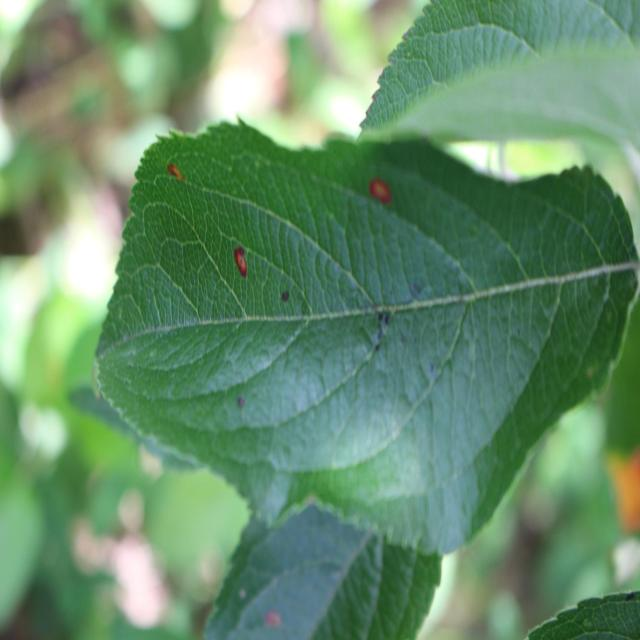Rust: (227, 217, 253, 288), (364, 175, 401, 223), (161, 160, 197, 190)
